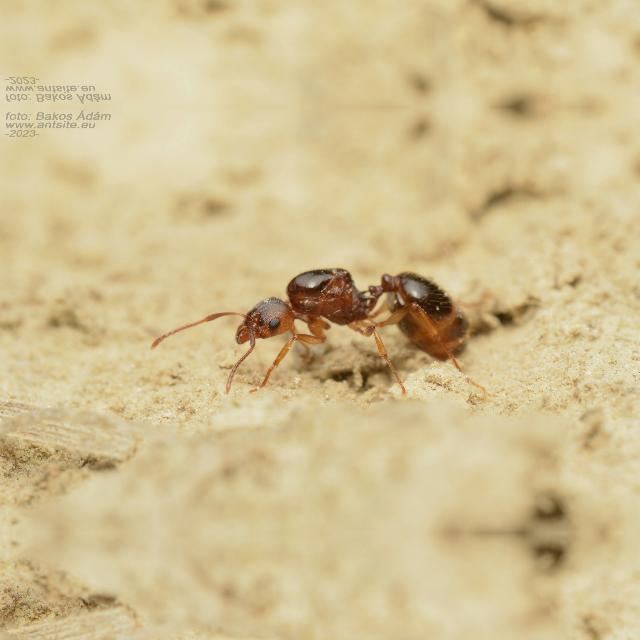Apheanogaster: (203, 245, 489, 377)
